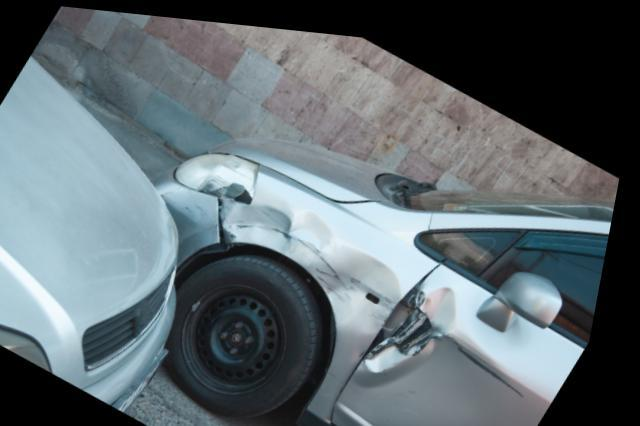crack: (405, 306, 443, 341)
dent: (232, 196, 410, 329), (373, 276, 539, 380)
lamp broken: (180, 146, 265, 199)
